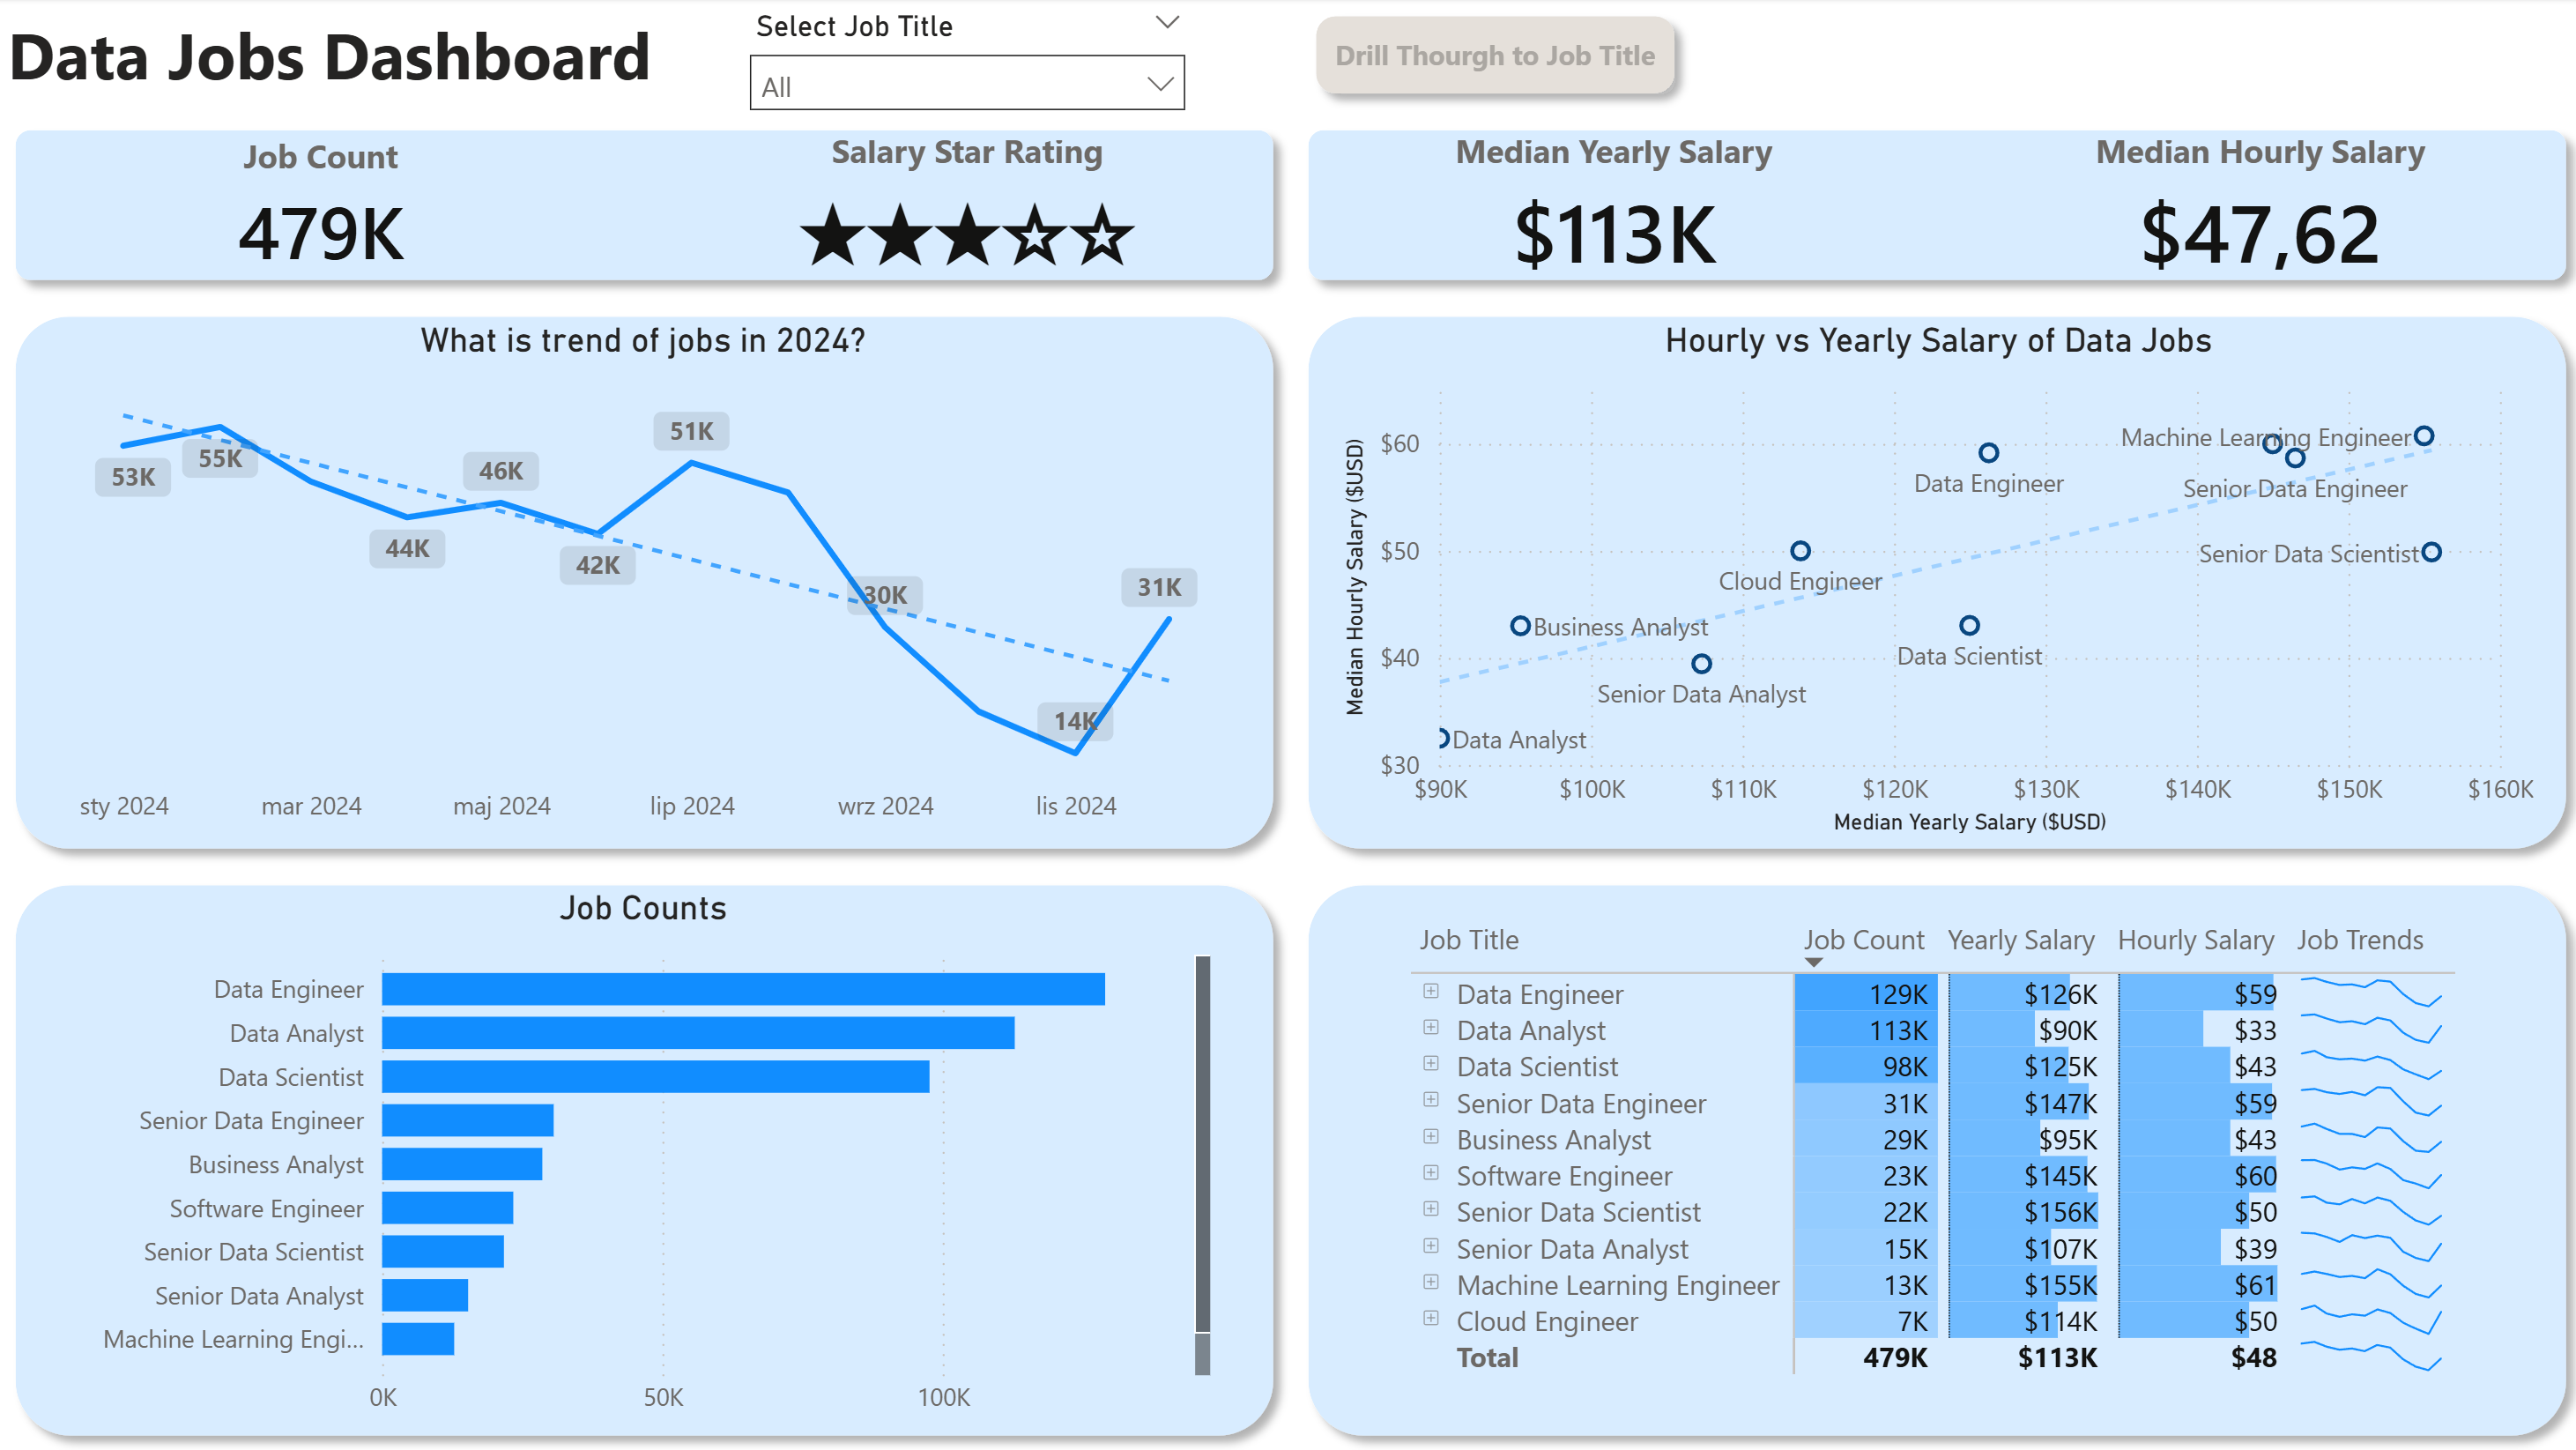

This screenshot's page, from the dashboard's own definition file:
{"tool":"powerbi","page":{"name":"Data Jobs Dashboard","canvas":[1280,720],"ordinal":0},"visuals":[{"type":"group","id":"g1","title":"Background","box":[0,56.2,1279.8,663.8],"z":0},{"type":"shape","box":[0,56.2,640.2,92.2],"z":0,"group":"g1"},{"type":"textbox","box":[0,0,338.6,56.2],"z":1000},{"type":"shape","box":[639.6,56.2,640.2,92.2],"z":1000,"group":"g1"},{"type":"slicer","fields":{"Values":["job_postings_flat.job_title_short"]},"box":[362.4,0,235.6,56.2],"z":2000},{"type":"shape","box":[0,148.4,640.2,281.2],"z":2000,"group":"g1"},{"type":"cardVisual","fields":{"Data":["Median(job_postings_flat.salary_year_avg)"]},"box":[640.2,56.2,319.8,92.2],"z":3000},{"type":"shape","box":[639.6,148.4,640.2,281.2],"z":3000,"group":"g1"},{"type":"cardVisual","fields":{"Data":["Median(job_postings_flat.salary_hour_avg)"]},"box":[960,56.2,319.8,92.2],"z":4000},{"type":"shape","box":[0,429.6,640.2,290.4],"z":4000,"group":"g1"},{"type":"cardVisual","fields":{"Data":["CountNonNull(job_postings_flat.job_title_short)"]},"box":[0,56.2,320.4,92.2],"z":5000},{"type":"shape","box":[639.6,429.6,640.2,290.4],"z":5000,"group":"g1"},{"type":"cardVisual","fields":{"Data":["job_postings_flat.Salary Star Rating"]},"box":[320.4,56.2,319.8,92.2],"z":6000},{"type":"lineChart","title":"What is trend of jobs in 2024?","fields":{"Category":["job_postings_flat.job_posted_date.Variation.Date Hierarchy.Year","job_postings_flat.job_posted_date.Variation.Date Hierarchy.Quarter","job_postings_flat.job_posted_date.Variation.Date Hierarchy.Month","job_postings_flat.job_posted_date.Variation.Date Hierarchy.Day"],"Y":["CountNonNull(job_postings_flat.job_title_short)"]},"box":[33.9,159.2,571.3,258.6],"z":7000},{"type":"barChart","title":"Job Counts","fields":{"Category":["job_postings_flat.job_title_short"],"Y":["CountNonNull(job_postings_flat.job_title_short)"]},"box":[34,439.4,571.2,270.3],"z":8000},{"type":"scatterChart","title":"Hourly vs Yearly Salary of Data Jobs","fields":{"X":["Median(job_postings_flat.salary_year_avg)"],"Y":["Median(job_postings_flat.salary_hour_avg)"],"Series":["job_postings_flat.job_title_short"]},"box":[661.1,159.1,598.5,259],"z":9000},{"type":"pivotTable","fields":{"Rows":["job_postings_flat.job_title_short","job_postings_flat.job_posted_date.Variation.Date Hierarchy.Quarter"],"Values":["CountNonNull(job_postings_flat.job_title_short)","Median(job_postings_flat.salary_year_avg)","Median(job_postings_flat.salary_hour_avg)","SparklineData(CountNonNull(job_postings_flat.job_title_short)_[job_postings_flat.job_posted_date.Variation.Date Hierarch"]},"box":[693.8,450.3,533.1,248.6],"z":10000},{"type":"actionButton","box":[643.8,0,195.1,55.9],"z":11000}]}

Visuals, with their boxes in screenshot pixels (x1, y1, x2, y2), scaled from the page's 1280x720 canvas onto the 2576x1450 screenshot:
"Background" group: <bbox>0, 113, 2575, 1449</bbox>
shape: <bbox>0, 113, 1288, 299</bbox>
textbox: <bbox>0, 0, 681, 113</bbox>
shape: <bbox>1288, 113, 2575, 299</bbox>
slicer - job_postings_flat.job_title_short: <bbox>730, 0, 1204, 113</bbox>
shape: <bbox>0, 299, 1288, 866</bbox>
cardVisual - Median(job_postings_flat.salary_year_avg): <bbox>1288, 113, 1932, 299</bbox>
shape: <bbox>1288, 299, 2575, 866</bbox>
cardVisual - Median(job_postings_flat.salary_hour_avg): <bbox>1932, 113, 2575, 299</bbox>
shape: <bbox>0, 866, 1288, 1449</bbox>
cardVisual - CountNonNull(job_postings_flat.job_title_short): <bbox>0, 113, 645, 299</bbox>
shape: <bbox>1288, 866, 2575, 1449</bbox>
cardVisual - job_postings_flat.Salary Star Rating: <bbox>645, 113, 1288, 299</bbox>
"What is trend of jobs in 2024?" lineChart: <bbox>68, 321, 1218, 842</bbox>
"Job Counts" barChart: <bbox>69, 885, 1218, 1429</bbox>
"Hourly vs Yearly Salary of Data Jobs" scatterChart: <bbox>1331, 320, 2535, 842</bbox>
pivotTable - job_postings_flat.job_title_short x job_postings_flat.job_posted_date.Variation.Date Hierarchy.Quarter: <bbox>1396, 907, 2469, 1408</bbox>
actionButton: <bbox>1295, 0, 1689, 113</bbox>
